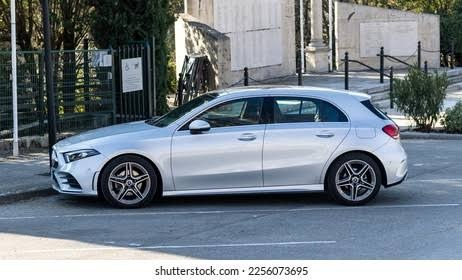car: (49, 91, 416, 206)
